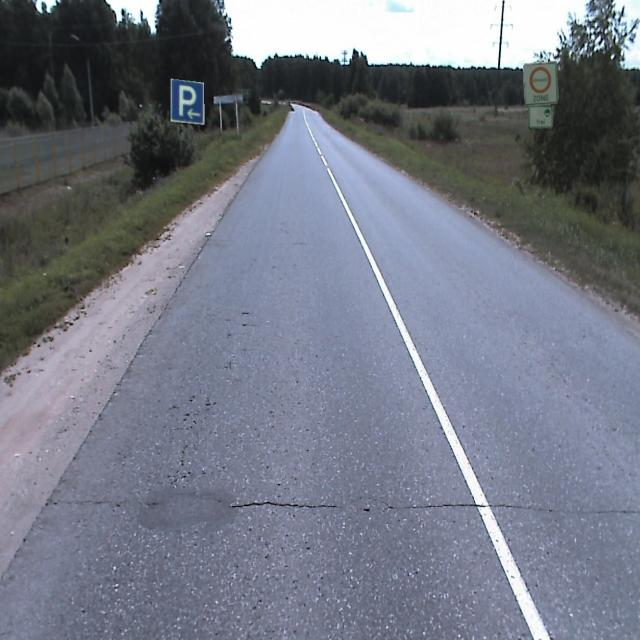road: (0, 104, 639, 639)
